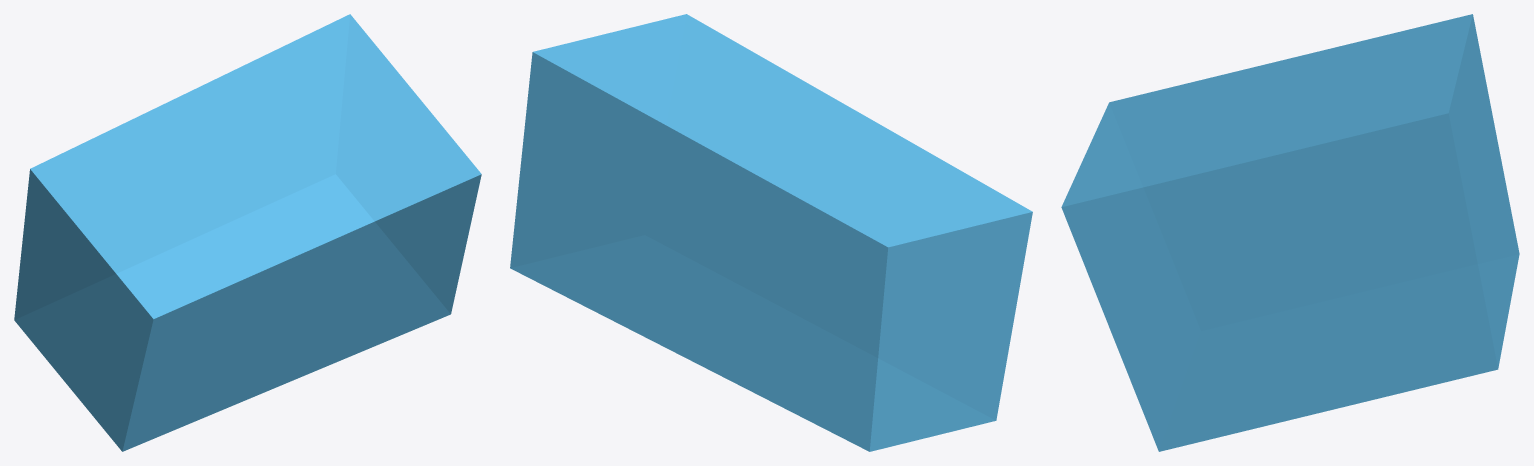
File: Event_421115418_HErechit_53.fbx
The picture shows the model from 3 angles, left to right: view 1: azimuth 30°, elevation 25°; view 2: azimuth 150°, elevation 25°; view 3: azimuth 270°, elevation 25°; orthographic projection. The views are drawn at different scales.
Parts seen in each view (by area): view 1: Model; view 2: Model; view 3: Model.
Boxes of the visible parts, bbox=[...] form: Model: bbox=[14, 14, 481, 451]; Model: bbox=[510, 14, 1032, 451]; Model: bbox=[1061, 14, 1519, 451].
Size of the model in its own units: 0.6633 by 0.6056 by 0.569.
